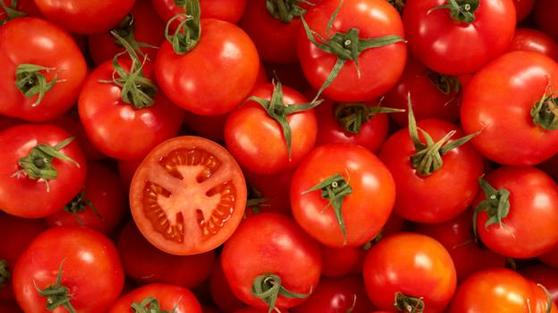tomato: (460, 41, 557, 174), (218, 204, 325, 313), (306, 4, 411, 107), (154, 17, 262, 114), (230, 71, 320, 186), (387, 114, 478, 223), (78, 50, 175, 152), (12, 222, 123, 311), (1, 17, 90, 123), (1, 125, 87, 219), (363, 231, 456, 313)
